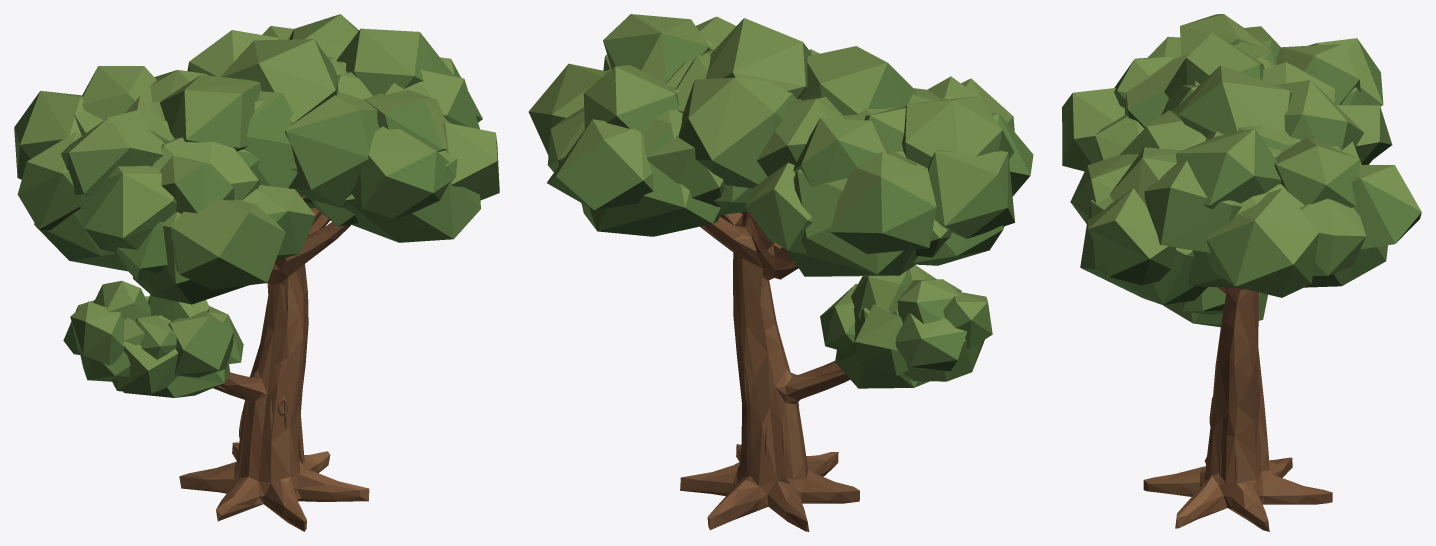
Rendered from tree_plateau.glb.
3 renders of one model, left to right at view 1: azimuth 30°, elevation 25°; view 2: azimuth 150°, elevation 25°; view 3: azimuth 270°, elevation 25°, orthographic. The views are drawn at different scales.
Parts seen in each view (by area): view 1: tree_plateau; view 2: tree_plateau; view 3: tree_plateau.
Boxes of the visible parts, left/top/right/bottom form: tree_plateau: left=14, top=14, right=499, bottom=531; tree_plateau: left=528, top=14, right=1033, bottom=531; tree_plateau: left=1062, top=14, right=1421, bottom=531.
Size of the model in its own units: 2.09 by 2 by 1.5.
